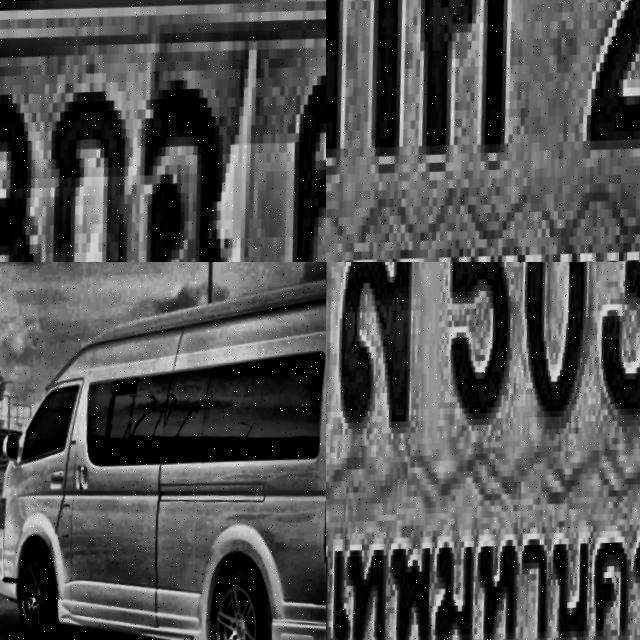license-plate: (326, 262, 640, 640), (0, 0, 326, 262), (326, 0, 640, 262)
